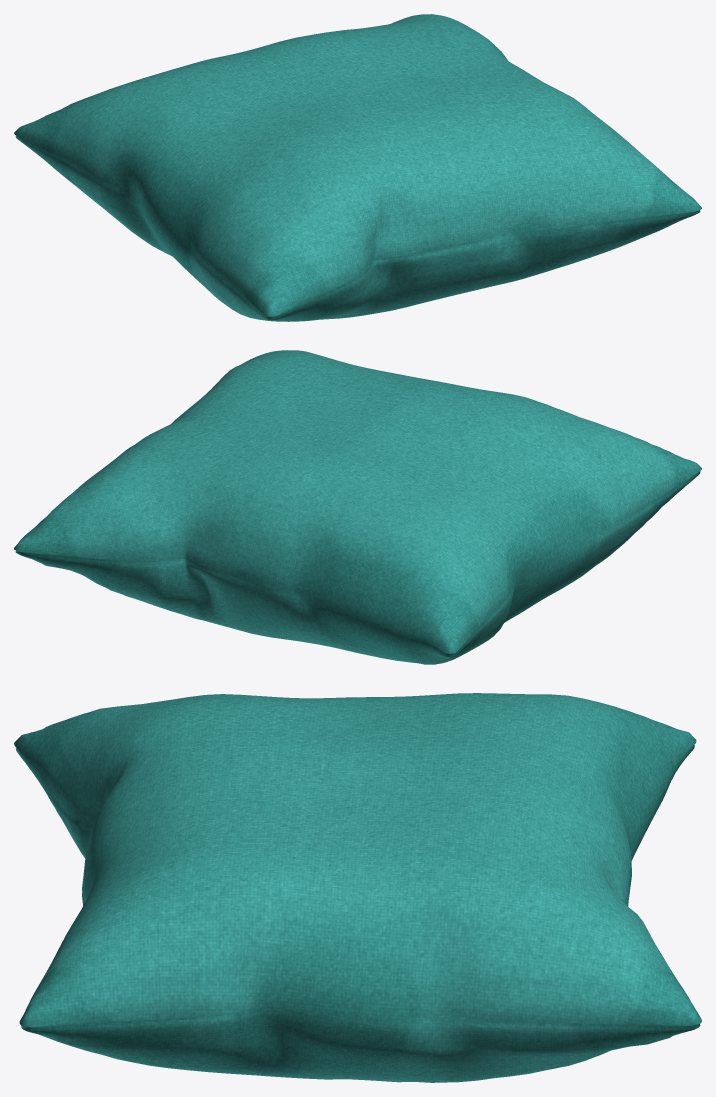
File: Goiketay.fbx
3 views of the same model, one above another, from view 1: azimuth 30°, elevation 25°; view 2: azimuth 150°, elevation 25°; view 3: azimuth 270°, elevation 25° (orthographic). The views are drawn at different scales.
Visible parts, largest first — view 1: Goi_ke_tay; view 2: Goi_ke_tay; view 3: Goi_ke_tay.
Part boxes in pixels (x1,y1,x2,y2): Goi_ke_tay: (14,14,701,321); Goi_ke_tay: (14,350,701,664); Goi_ke_tay: (14,693,701,1082).
Size of the model in its own units: 17.18 by 7.01 by 17.25.
1 material, 1 textured.
